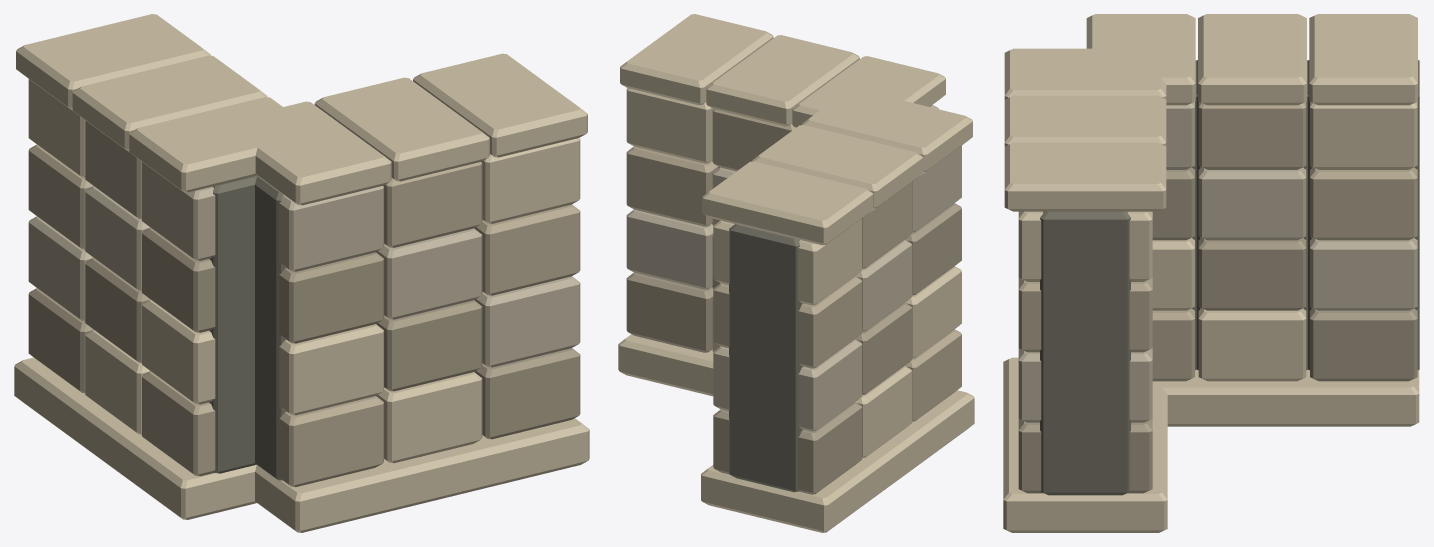
Rendered from Wall_Corner_2m.fbx.
3 renders of one model, left to right at view 1: azimuth 30°, elevation 25°; view 2: azimuth 150°, elevation 25°; view 3: azimuth 270°, elevation 25°, orthographic. The views are drawn at different scales.
Visible parts, largest first — view 1: Wall_Corner_2m; view 2: Wall_Corner_2m; view 3: Wall_Corner_2m.
Boxes of the visible parts, box(x1,y1,x2,y2) form: Wall_Corner_2m: box(14, 14, 589, 532); Wall_Corner_2m: box(618, 14, 974, 532); Wall_Corner_2m: box(1003, 14, 1419, 532).
Size of the model in its own units: 1.65 by 1.52 by 1.65.
